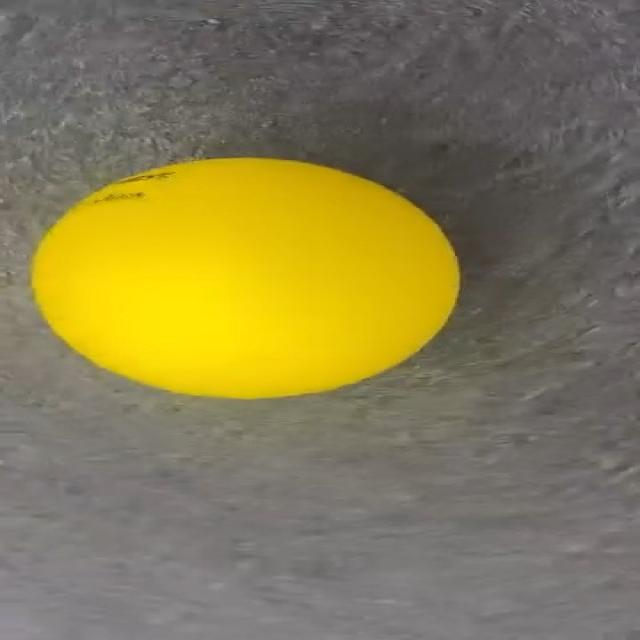Fuels: (34, 158, 455, 397)
